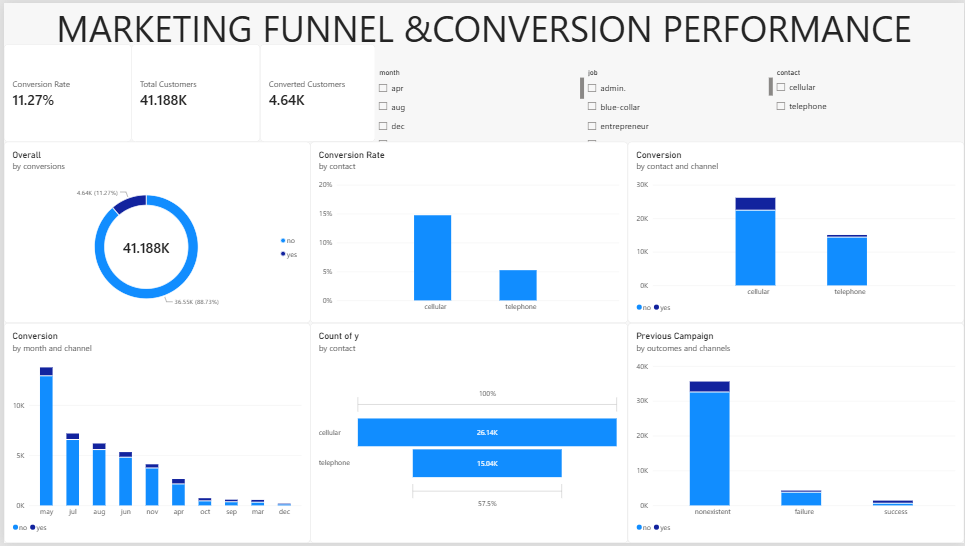

This screenshot's page, from the dashboard's own definition file:
{"tool":"powerbi","page":{"name":"Page 1","canvas":[1920,1080],"ordinal":0},"visuals":[{"type":"donutChart","fields":{"Category":["banking.y"],"Y":["CountNonNull(banking.y)"]},"box":[0,277.5,612.5,362.5],"z":0},{"type":"columnChart","fields":{"Category":["banking.contact"],"Series":["banking.y"],"Y":["CountNonNull(banking.y)"]},"box":[1247.5,277.5,672.5,362.5],"z":1000},{"type":"cardVisual","fields":{"Data":["banking.Conversion Rate"]},"box":[0,82.5,255,195],"z":2000},{"type":"cardVisual","fields":{"Data":["CountNonNull(banking.y)"]},"box":[255,82.5,257.5,195],"z":3000},{"type":"cardVisual","fields":{"Data":["CountNonNull(banking.y)"]},"box":[512.5,82.5,230,195],"z":4000},{"type":"columnChart","fields":{"Category":["banking.contact"],"Y":["banking.Conversion Rate"]},"box":[612.5,277.5,635,362.5],"z":5000},{"type":"textbox","box":[0,0,1920,166],"z":6000},{"type":"slicer","fields":{"Values":["banking.month"]},"box":[742.5,130,417.5,147.5],"z":7000},{"type":"slicer","fields":{"Values":["banking.contact"]},"box":[1537.5,130,382.5,172.5],"z":8000},{"type":"slicer","fields":{"Values":["banking.job"]},"box":[1160,130,377.5,147.5],"z":9000},{"type":"columnChart","fields":{"Category":["banking.month"],"Series":["banking.y"],"Y":["CountNonNull(banking.y)"]},"box":[0,640,612.5,440],"z":9001},{"type":"funnel","fields":{"Category":["banking.contact"],"Y":["CountNonNull(banking.y)"]},"box":[612.5,640,635,440],"z":9002},{"type":"columnChart","fields":{"Category":["banking.poutcome"],"Series":["banking.y"],"Y":["CountNonNull(banking.y)"]},"box":[1247.5,640,672.5,440],"z":9003}]}

Visuals, with their boxes in screenshot pixels (x1, y1, x2, y2), scaled from the page's 1920x1080 canvas onto the 965x546 screenshot:
donutChart - banking.y x CountNonNull(banking.y): x1=0, y1=140, x2=308, y2=324
columnChart - banking.contact x banking.y: x1=627, y1=140, x2=964, y2=324
cardVisual - banking.Conversion Rate: x1=0, y1=42, x2=128, y2=140
cardVisual - CountNonNull(banking.y): x1=128, y1=42, x2=258, y2=140
cardVisual - CountNonNull(banking.y): x1=258, y1=42, x2=373, y2=140
columnChart - banking.contact x banking.Conversion Rate: x1=308, y1=140, x2=627, y2=324
textbox: x1=0, y1=0, x2=964, y2=84
slicer - banking.month: x1=373, y1=66, x2=583, y2=140
slicer - banking.contact: x1=773, y1=66, x2=964, y2=153
slicer - banking.job: x1=583, y1=66, x2=773, y2=140
columnChart - banking.month x banking.y: x1=0, y1=324, x2=308, y2=545
funnel - banking.contact x CountNonNull(banking.y): x1=308, y1=324, x2=627, y2=545
columnChart - banking.poutcome x banking.y: x1=627, y1=324, x2=964, y2=545
